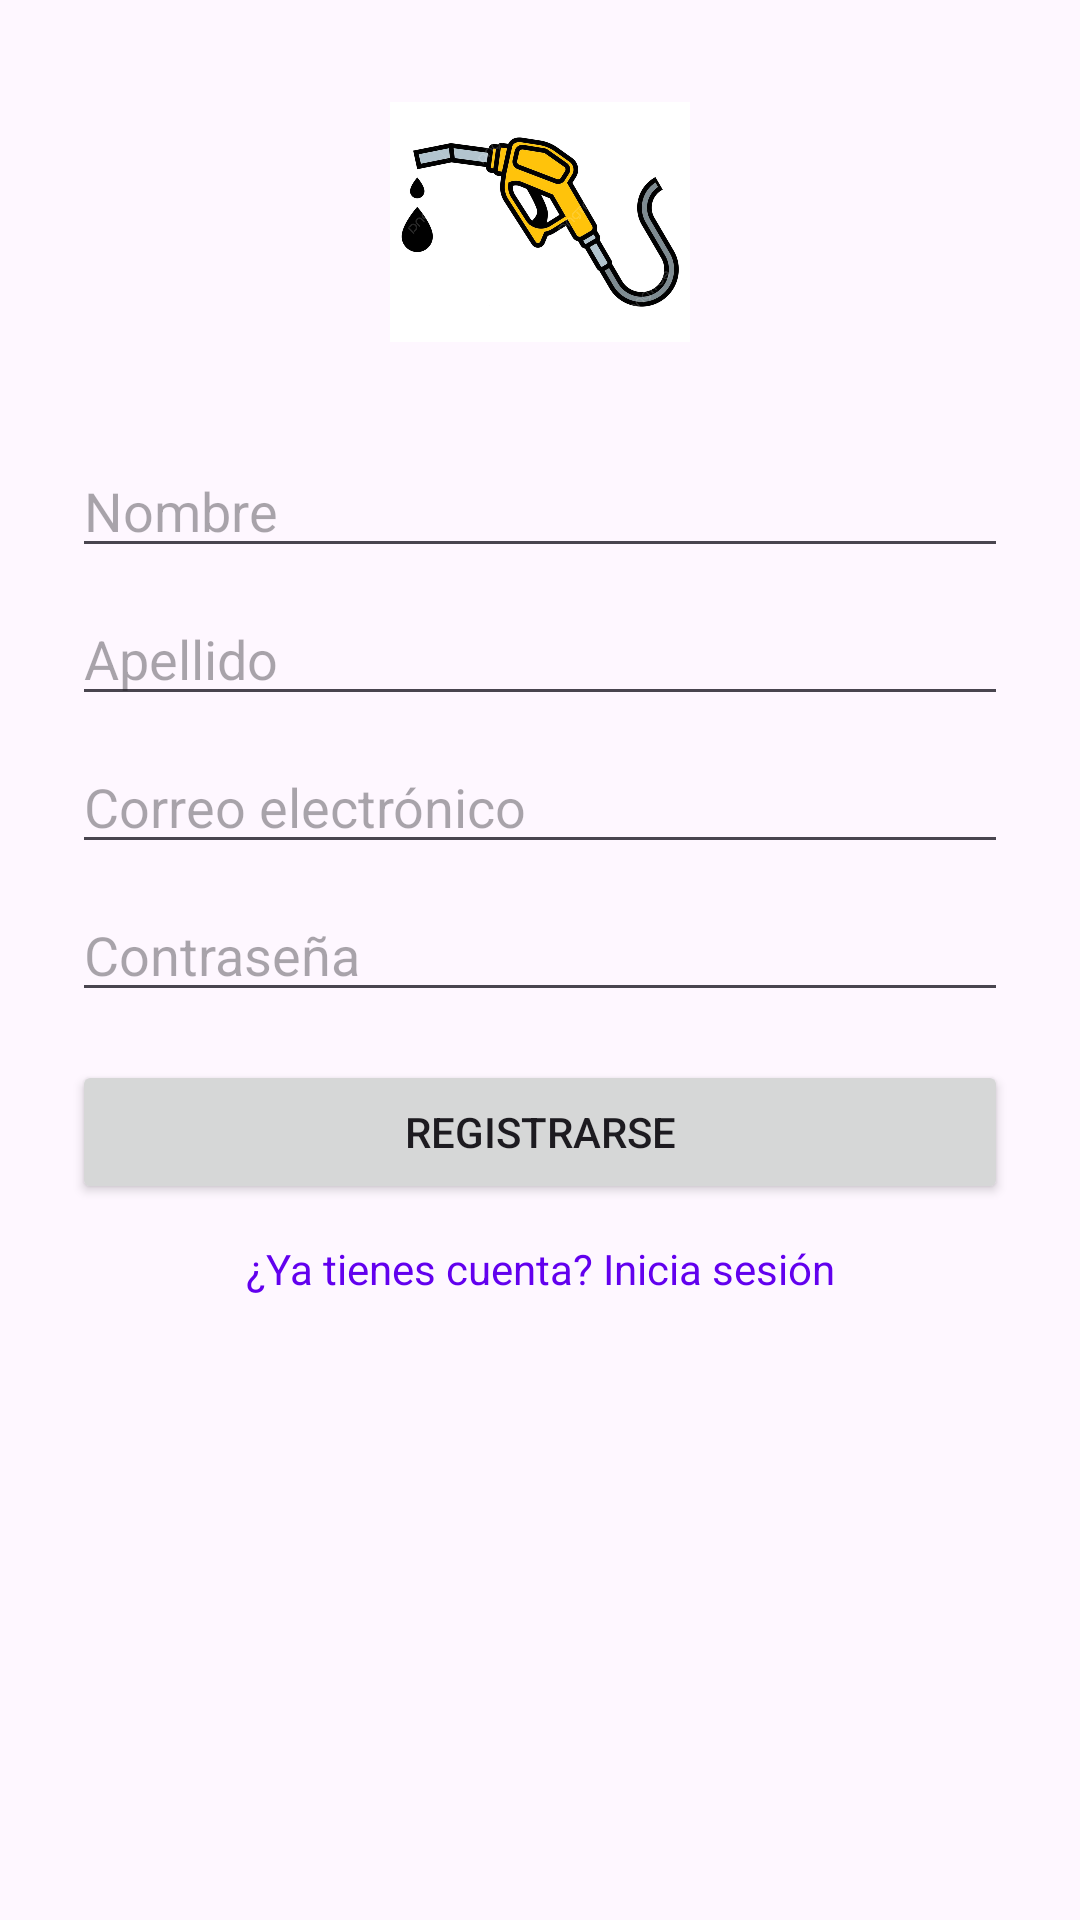

Where icons sit on this 1080w x 1920h app screen, as box(x1, y1, x2, y2):
fuelmonitorapp: box(401, 137, 679, 307)
